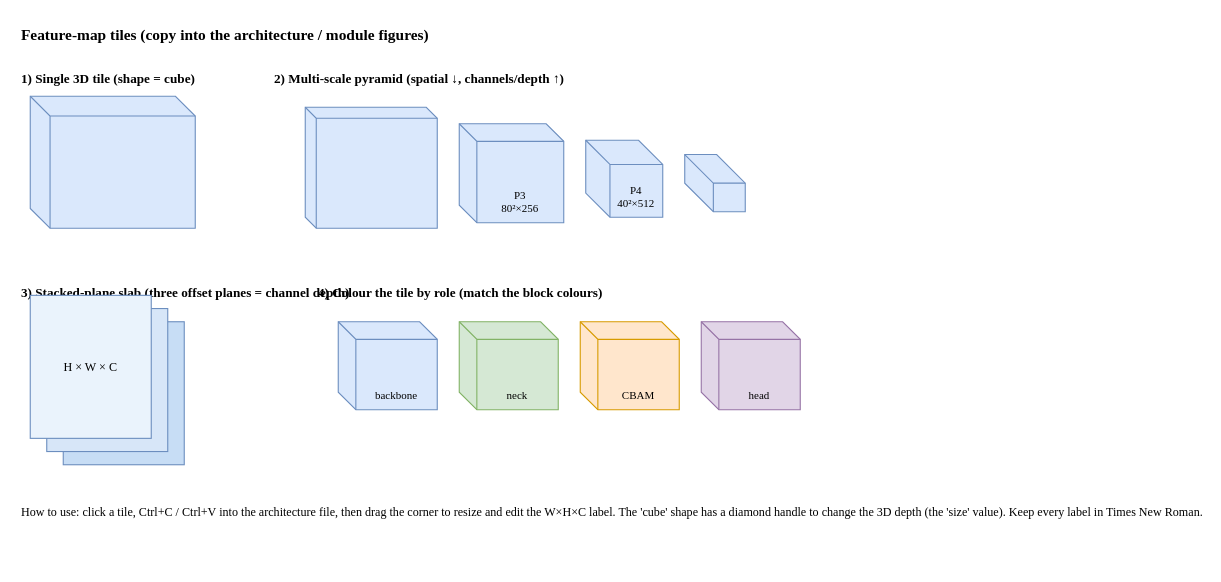
Image size: 1221x582. Some labels were removed from this diagram. The centre of each missing label's shape, as x and y in pixels:
160×160×128 (P2): pixel 112 161
P2 160²×128: pixel 370 167
P5 20²×512: pixel 714 182
